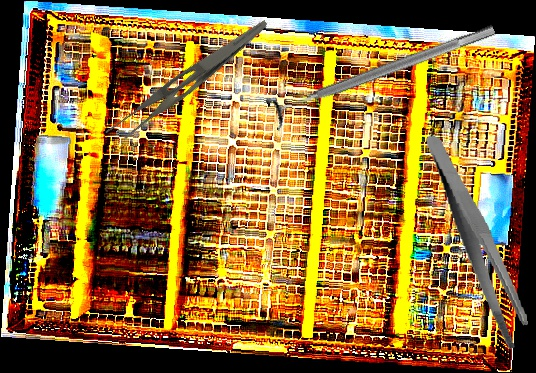Dressing Forceps: (102, 2, 270, 154), (425, 125, 532, 358)
Fixation Ring: (265, 12, 501, 134)
